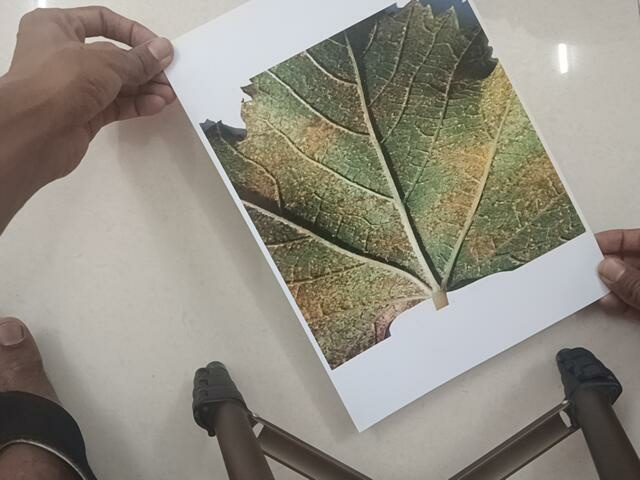Grape_Rust_Fungus: (213, 9, 584, 285)
